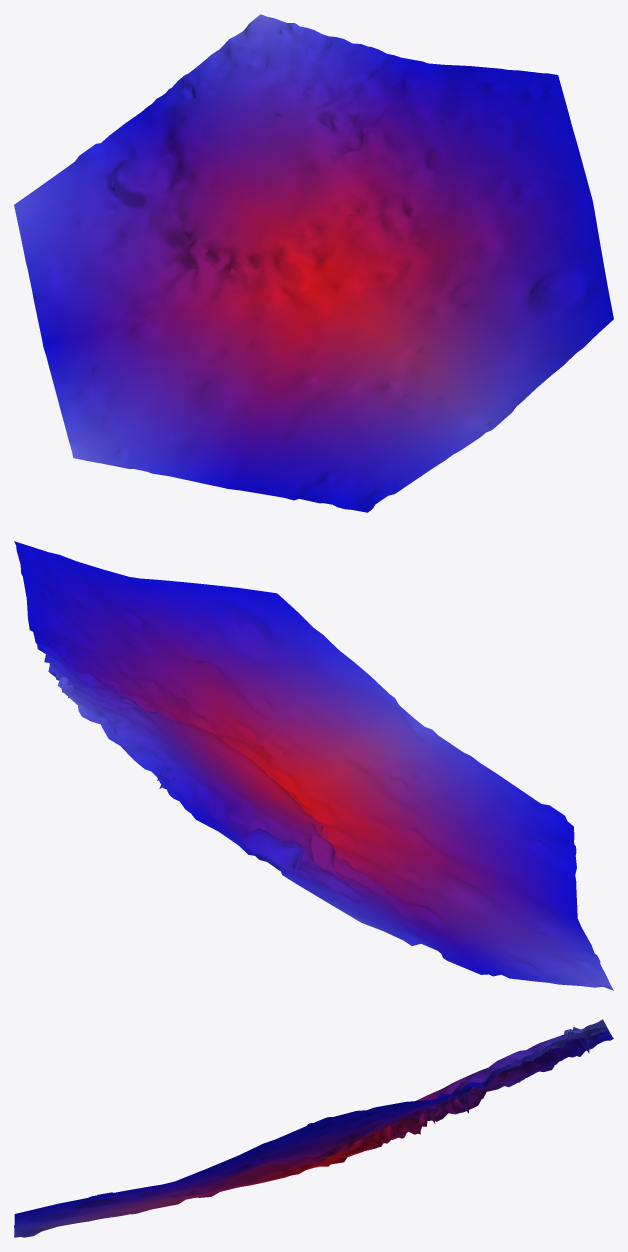
Rendered from Hex_05.fbx.
The picture shows the model from 3 angles, top to bottom: view 1: azimuth 30°, elevation 25°; view 2: azimuth 150°, elevation 25°; view 3: azimuth 270°, elevation 25°; orthographic projection. The views are drawn at different scales.
Visible parts, largest first — view 1: Hex_05; view 2: Hex_05; view 3: Hex_05.
Part boxes in pixels (x1,y1,x2,y2): Hex_05: [14, 14, 613, 512]; Hex_05: [14, 541, 613, 990]; Hex_05: [14, 1019, 613, 1237].
Bounding box in the file's own units: 456 × 243 × 434.
